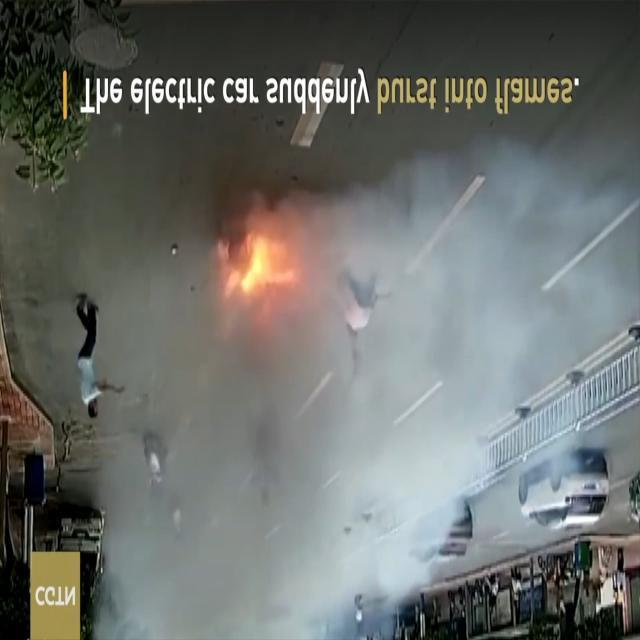fire: (209, 222, 310, 318)
